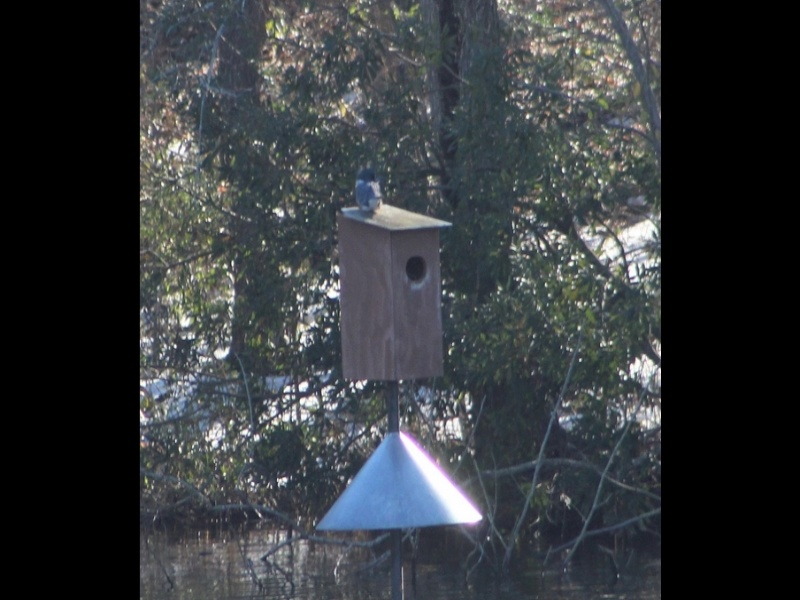kingfisher: (352, 161, 384, 218)
